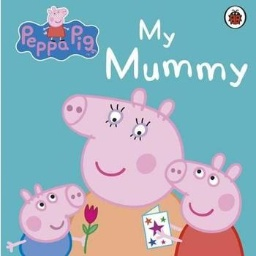Peppa: (157, 153, 244, 256)
